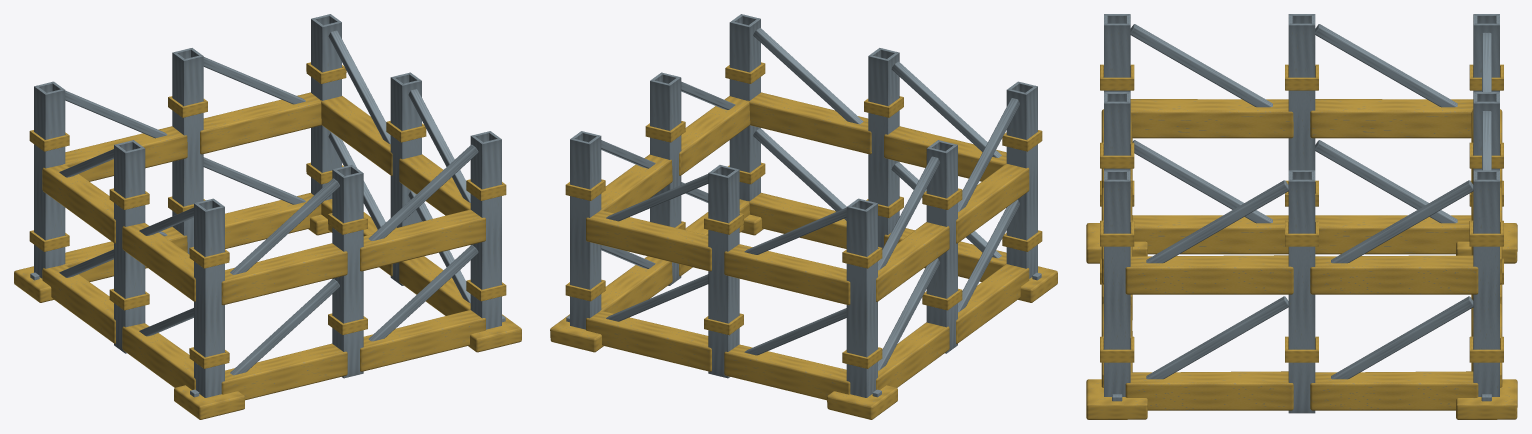
The picture shows the model from 3 angles, left to right: view 1: azimuth 30°, elevation 25°; view 2: azimuth 150°, elevation 25°; view 3: azimuth 270°, elevation 25°; orthographic projection. The views are drawn at different scales.
Parts seen in each view (by area): view 1: Tier 0 side 0 post 0, Tier 0 side 0 post 1, Tier 0 side 1 post 0, Tier 0 side 3 post 1, Tier 0 side 3 post 0, Tier 0 side 2 post 1, Tier 0 bay 0-1-0 service deck, Tier 0 bay 0-1-1 service deck, Tier 0 bay 2-1-0 service deck, Tier 0 bay 0-0-1 service deck, Tier 0 bay 0-0-0 service deck, Tier 0 side 2 post 0 (+43 smaller); view 2: Tier 0 side 3 post 0, Tier 0 side 2 post 1, Tier 0 side 2 post 0, Tier 0 side 0 post 1, Tier 0 bay 2-1-1 service deck, Tier 0 bay 2-1-0 service deck, Tier 0 bay 0-1-1 service deck, Tier 0 bay 2-0-0 service deck, Tier 0 side 3 post 1, Tier 0 bay 2-0-1 service deck, Tier 0 side 0 post 0, Tier 0 side 1 post 0 (+43 smaller); view 3: Tier 0 bay 1-1-1 service deck, Tier 0 bay 1-1-0 service deck, Tier 0 bay 3-1-1 service deck, Tier 0 bay 3-1-0 service deck, Tier 0 bay 1-0-0 service deck, Tier 0 bay 1-0-1 service deck, Tier 0 side 1 post 1, Tier 0 side 1 post 0, Tier 0 side 2 post 0, Tier 0 bay 3-0-0 service deck, Tier 0 bay 3-0-1 service deck, Tier 0 side 3 post 1 (+29 smaller).
Boxes of the visible parts, bbox=[...] form: Tier 0 side 0 post 0: bbox=[194, 198, 224, 397]; Tier 0 side 0 post 1: bbox=[332, 165, 363, 378]; Tier 0 side 1 post 0: bbox=[470, 131, 501, 329]; Tier 0 side 3 post 1: bbox=[114, 140, 145, 353]; Tier 0 side 3 post 0: bbox=[34, 81, 65, 278]; Tier 0 side 2 post 1: bbox=[172, 48, 203, 254]; Tier 0 bay 0-1-0 service deck: bbox=[221, 243, 347, 305]; Tier 0 bay 0-1-1 service deck: bbox=[360, 209, 485, 271]; Tier 0 bay 2-1-0 service deck: bbox=[200, 92, 321, 154]; Tier 0 bay 0-0-1 service deck: bbox=[360, 310, 485, 371]; Tier 0 bay 0-0-0 service deck: bbox=[221, 343, 347, 400]; Tier 0 side 2 post 0: bbox=[311, 14, 341, 200]; Tier 0 side 3 post 0: bbox=[846, 198, 877, 397]; Tier 0 side 2 post 1: bbox=[708, 165, 739, 378]; Tier 0 side 2 post 0: bbox=[570, 131, 601, 329]; Tier 0 side 0 post 1: bbox=[868, 48, 899, 248]; Tier 0 bay 2-1-1 service deck: bbox=[724, 244, 850, 305]; Tier 0 bay 2-1-0 service deck: bbox=[586, 210, 711, 271]; Tier 0 bay 0-1-1 service deck: bbox=[747, 92, 871, 154]; Tier 0 bay 2-0-0 service deck: bbox=[586, 311, 711, 371]; Tier 0 side 3 post 1: bbox=[926, 140, 957, 353]; Tier 0 bay 2-0-1 service deck: bbox=[724, 344, 850, 400]; Tier 0 side 0 post 0: bbox=[1006, 81, 1037, 278]; Tier 0 side 1 post 0: bbox=[729, 14, 760, 201]; Tier 0 bay 1-1-1 service deck: bbox=[1310, 255, 1478, 294]; Tier 0 bay 1-1-0 service deck: bbox=[1125, 255, 1293, 294]; Tier 0 bay 3-1-1 service deck: bbox=[1130, 99, 1293, 138]; Tier 0 bay 3-1-0 service deck: bbox=[1310, 99, 1473, 138]; Tier 0 bay 1-0-0 service deck: bbox=[1125, 371, 1293, 410]; Tier 0 bay 1-0-1 service deck: bbox=[1310, 371, 1478, 410]; Tier 0 side 1 post 1: bbox=[1288, 170, 1315, 413]; Tier 0 side 1 post 0: bbox=[1104, 170, 1130, 396]; Tier 0 side 2 post 0: bbox=[1473, 170, 1499, 396]; Tier 0 bay 3-0-0 service deck: bbox=[1315, 215, 1471, 254]; Tier 0 bay 3-0-1 service deck: bbox=[1132, 215, 1288, 254]; Tier 0 side 3 post 1: bbox=[1288, 14, 1315, 170].
Size of the model in its own units: 1.05 by 0.6235 by 1.05.
2 materials, 2 textured.
